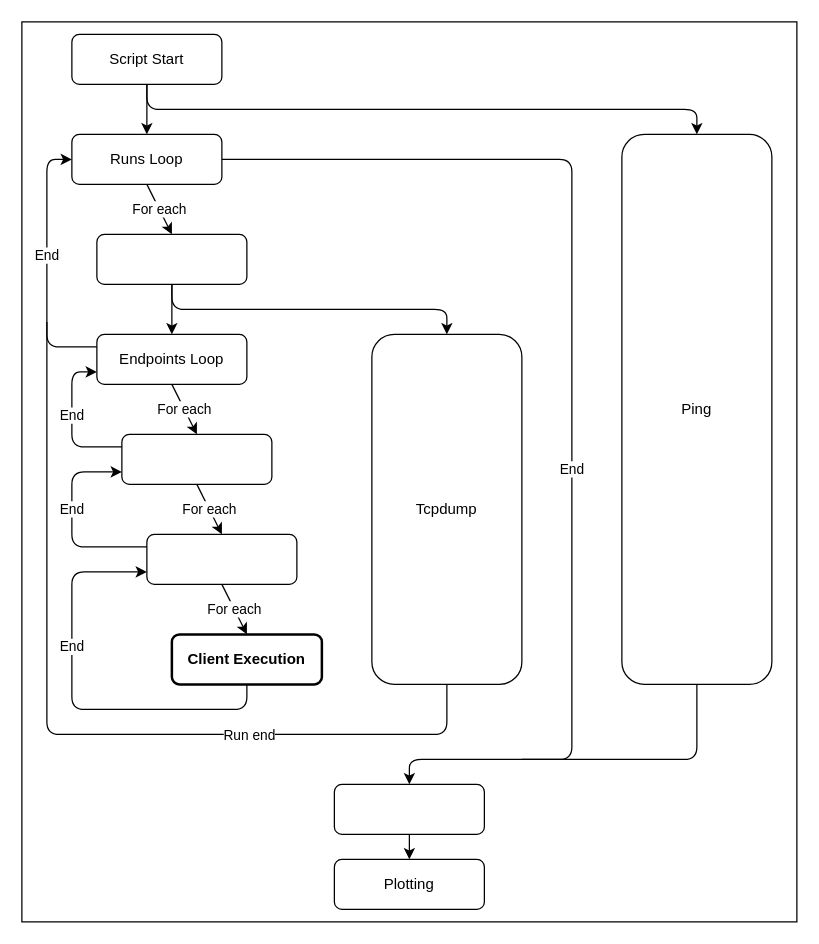
Image size: 819x944. Some labels were removed from this diagram. Each missing label, with the centre of its shape:
"Intervals Loop" goes at pixel 196 458.
"Iperf" goes at pixel 171 258.
"Message Sizes Loop" goes at pixel 221 558.
"Script End" goes at pixel 408 808.
